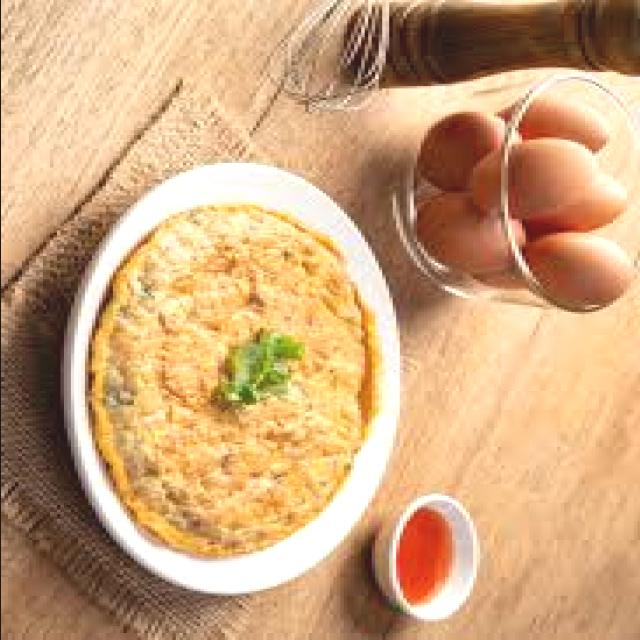telur dadar: (105, 212, 360, 554)
